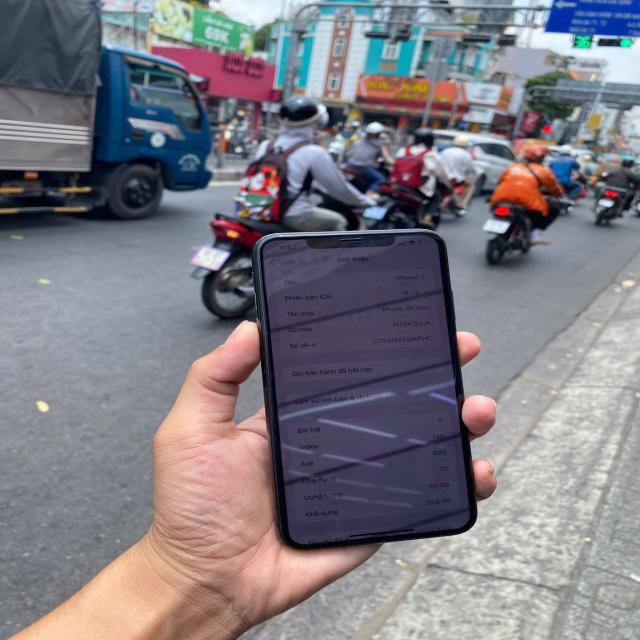gen_x_xs: (252, 228, 480, 551)
screen_defect: (263, 308, 345, 344), (272, 385, 310, 417), (347, 302, 395, 326), (398, 286, 446, 310), (313, 381, 351, 410), (282, 462, 316, 491), (316, 459, 342, 489), (369, 523, 411, 541), (395, 435, 424, 461), (383, 366, 408, 393), (343, 457, 372, 479), (373, 447, 396, 473), (412, 514, 441, 534), (410, 361, 433, 385), (355, 374, 381, 395), (424, 429, 447, 452), (442, 508, 472, 524), (433, 356, 458, 375), (448, 425, 468, 445)
